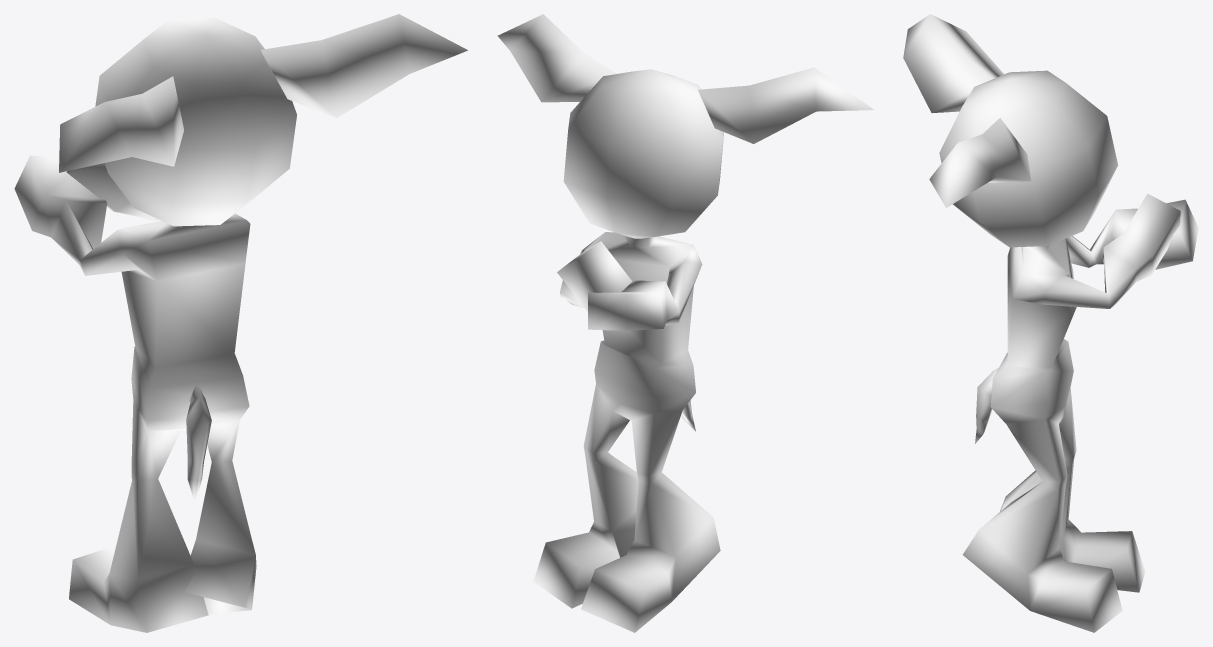
File: dog2.ico.obj
3 renders of one model, left to right at view 1: azimuth 30°, elevation 25°; view 2: azimuth 150°, elevation 25°; view 3: azimuth 270°, elevation 25°, orthographic. The views are drawn at different scales.
Size of the model in its own units: 3.29 by 4.47 by 2.29.
1 material, 1 textured.
